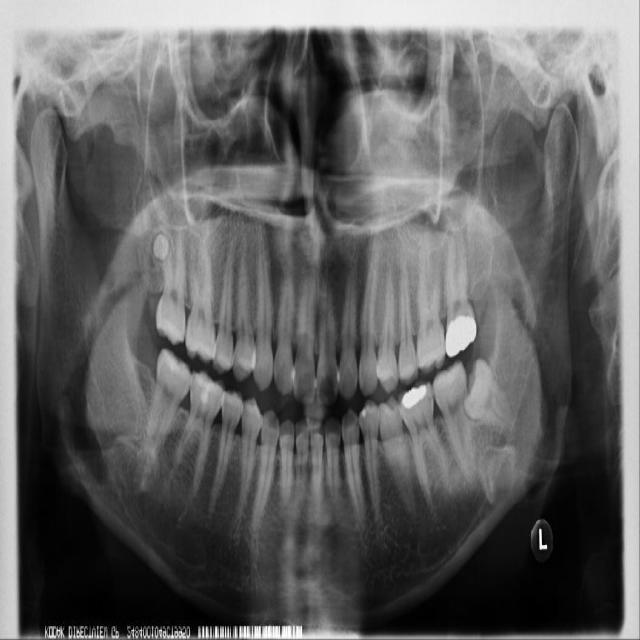3M ESPE Implant: (151, 232, 172, 263)
52: (444, 315, 478, 360), (398, 380, 432, 412), (194, 369, 218, 405), (411, 344, 417, 367), (291, 367, 296, 383), (361, 409, 367, 418), (337, 370, 340, 383), (314, 379, 317, 388), (416, 353, 418, 366)
BioHorizons Implant: (445, 228, 477, 358)
Biomet 3i Implant: (446, 355, 525, 449)
Blue Sky Bio Implant: (429, 359, 478, 482)
Caries: (155, 231, 185, 347)
Implant: (141, 348, 197, 469)
